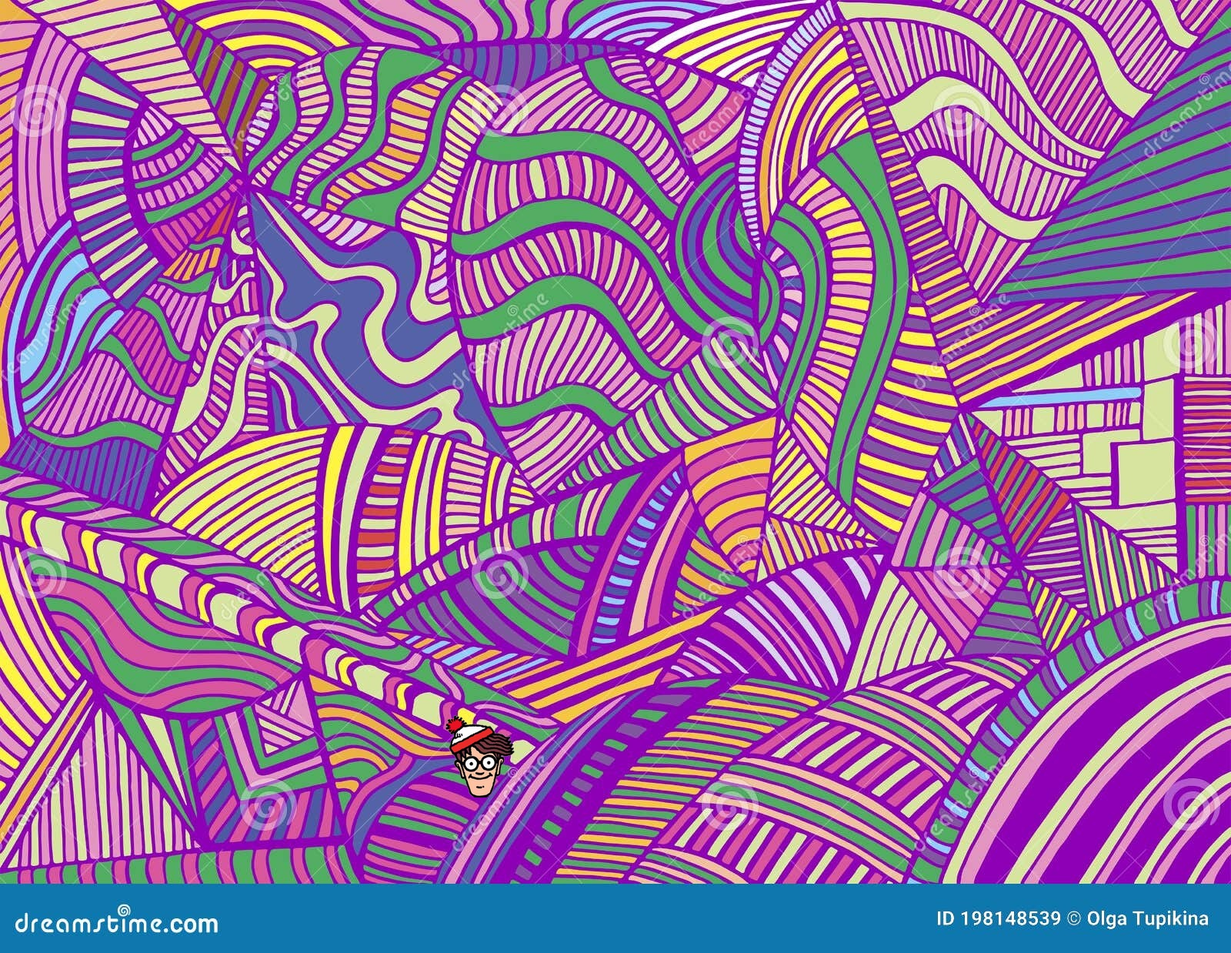waldo: (445, 715, 515, 798)
